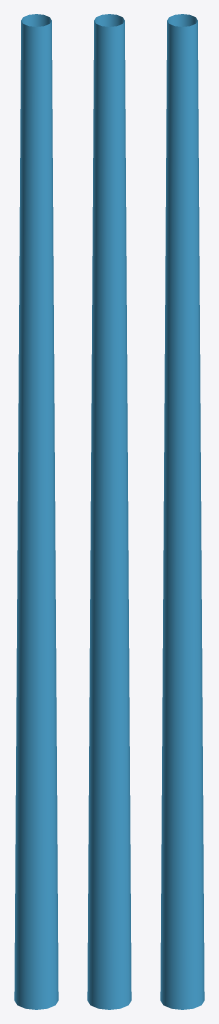
Rendered from windpowergenerator_grid_2001_01.obj.
3 renders of one model, left to right at view 1: azimuth 90°, elevation 25°; view 2: azimuth 150°, elevation 25°; view 3: azimuth 270°, elevation 25°, orthographic.
Visible parts, largest first — view 1: polySurface173; view 2: polySurface173; view 3: polySurface173.
Boxes of the visible parts, x1=… form: polySurface173: x1=14, y1=14, x2=58, y2=1009; polySurface173: x1=87, y1=14, x2=131, y2=1009; polySurface173: x1=160, y1=14, x2=204, y2=1009.
Bounding box in the file's own units: 369 × 9038 × 369.
Materials: 1 (1 with a texture image).
